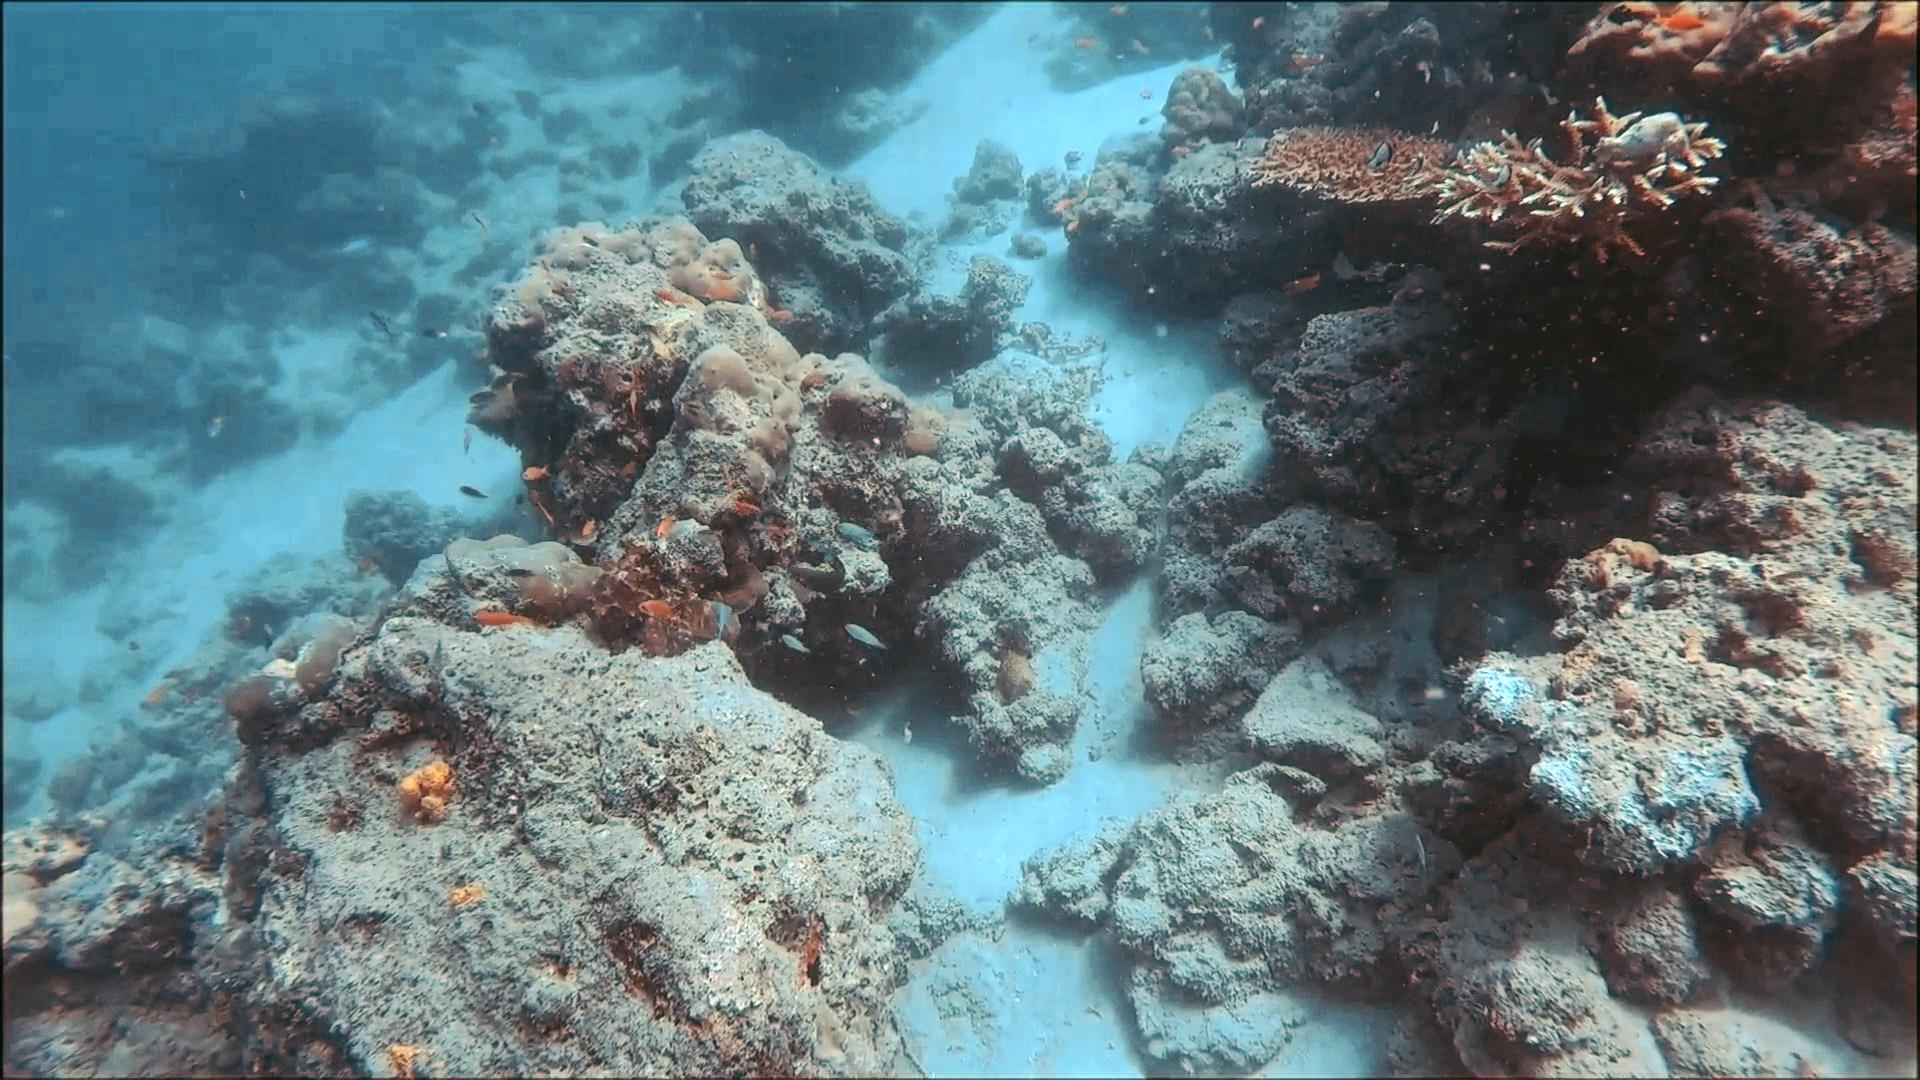Porites-Porites pukoensis: (616, 210, 845, 502)
